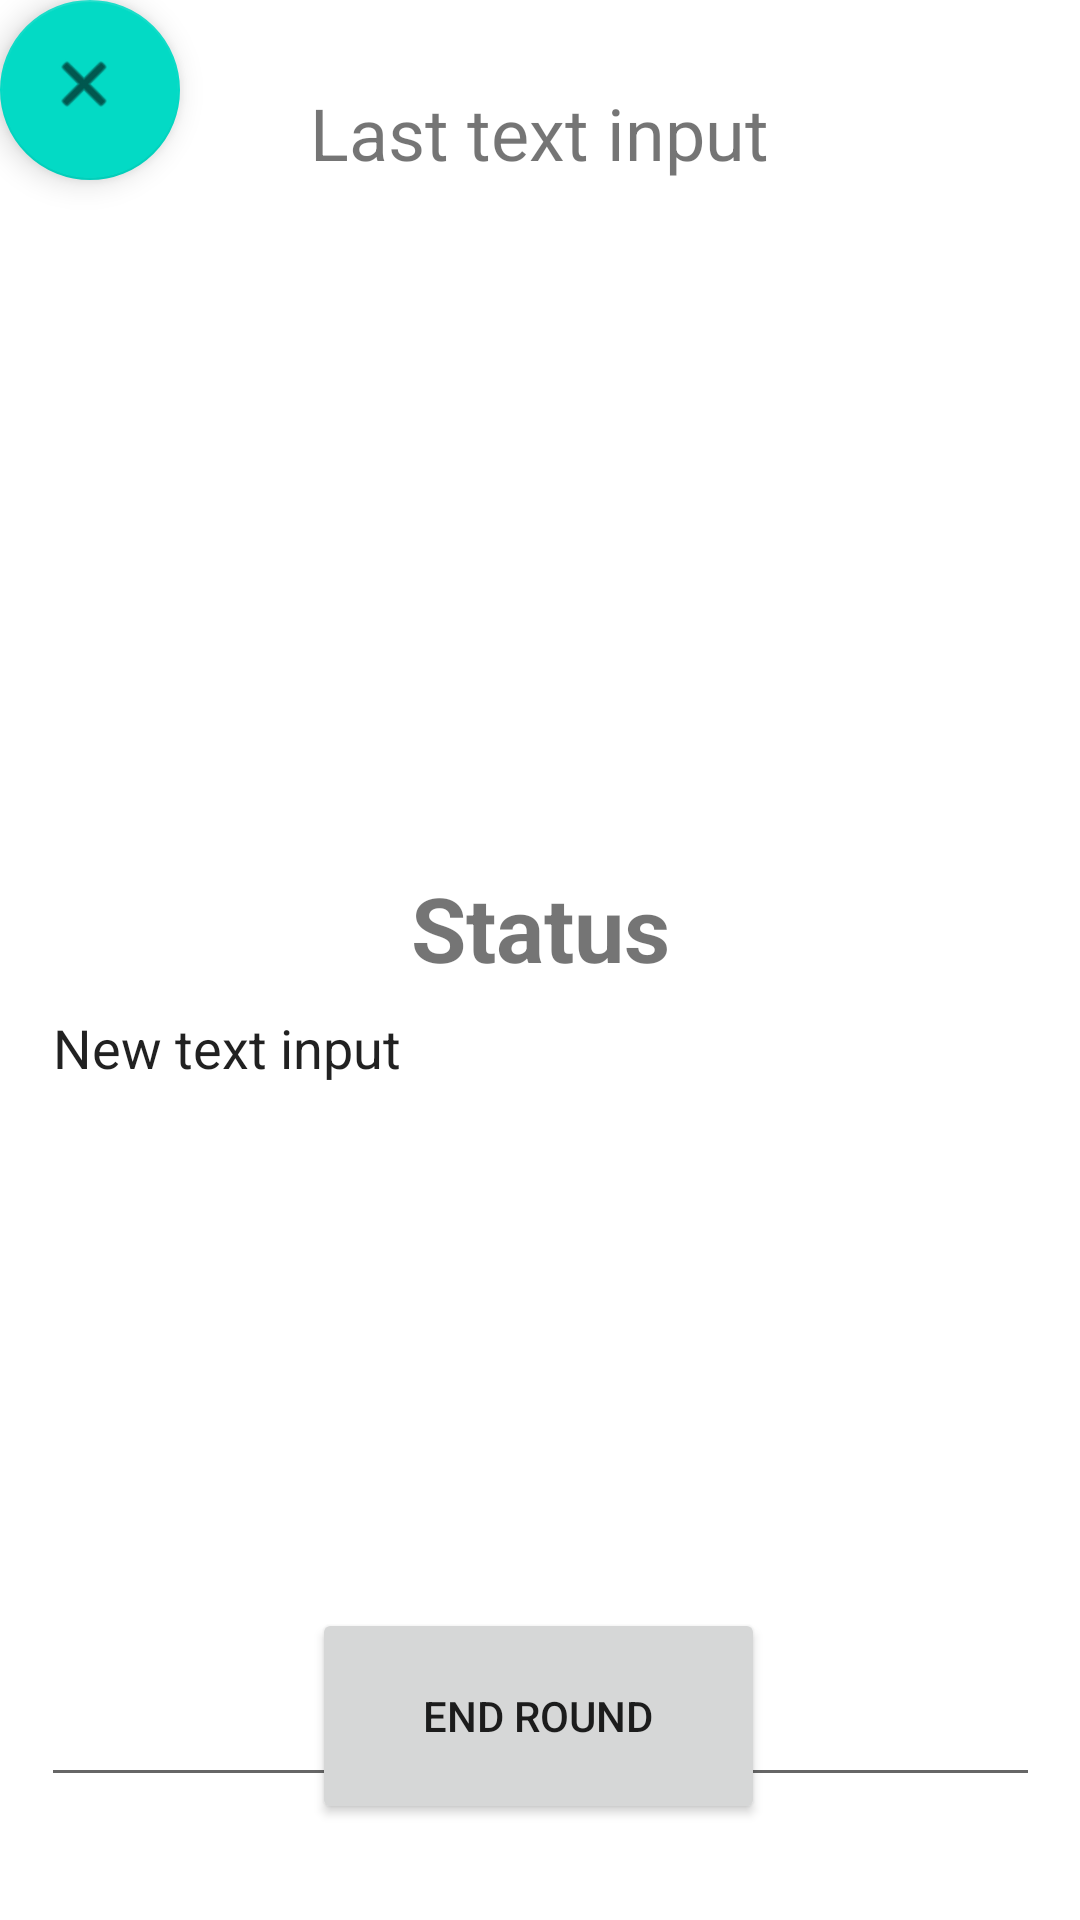

Where to tap for icons on this 1080*1920 app screen, as (x,y):
close clear cancel: (90,90)
